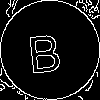B: (25, 25, 64, 74)
